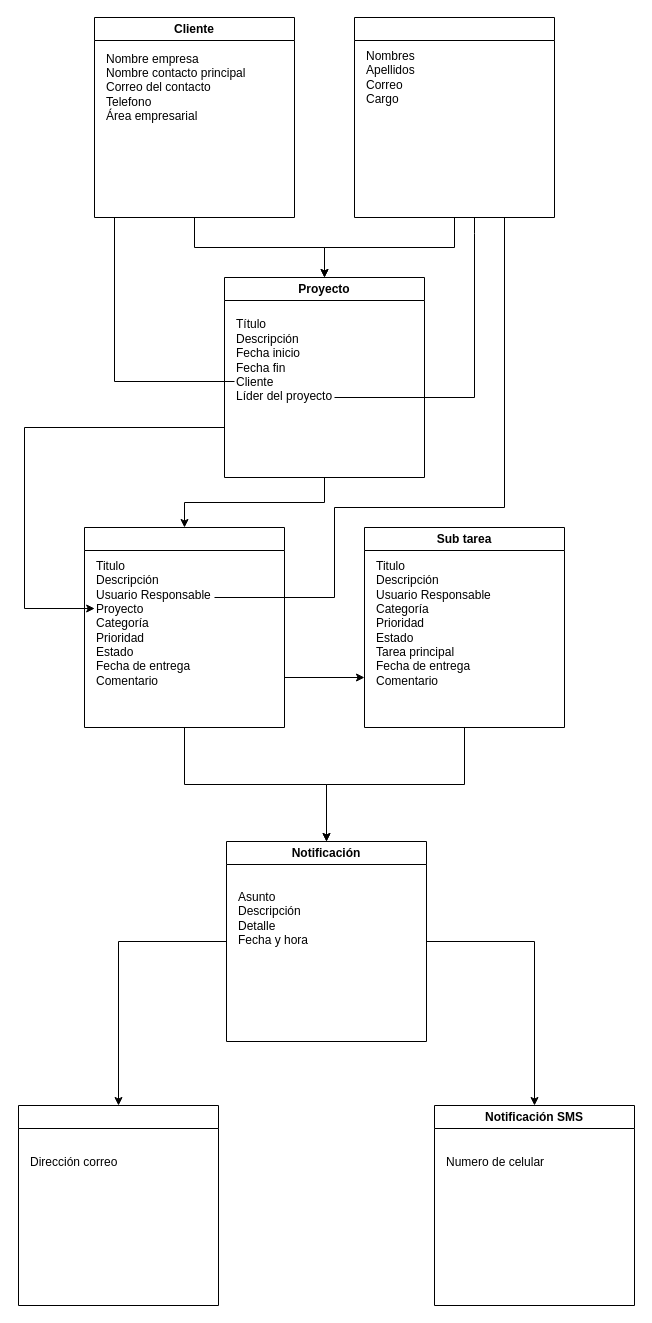
This 652x1323 diagram has some shape labels left out. The box of each missing label's shape, as (x1, y1, x2, y2) in pixels:
Notificación correo: (18, 1104, 218, 1306)
Tarea: (84, 526, 284, 728)
Usuario: (354, 16, 554, 218)
